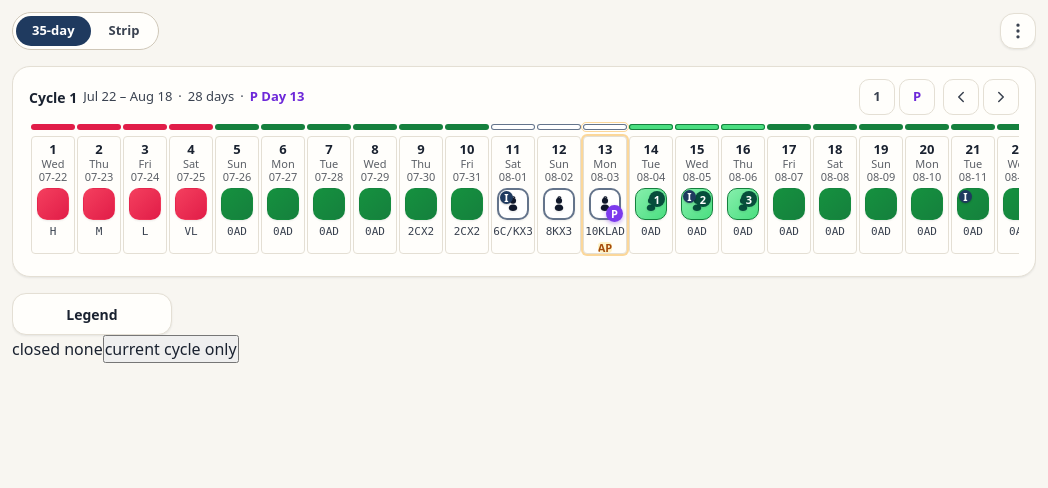
Test: ChartRow on a desktop › keeps an empty live region when today has no card and no day is selected
The width and height of the screenshot is (1048, 488).
The first selection fills the same live region, so a screen reader reads it
Click the button with aria-label "Cycle Day 13," at (605, 195), box [583,136,627,254]
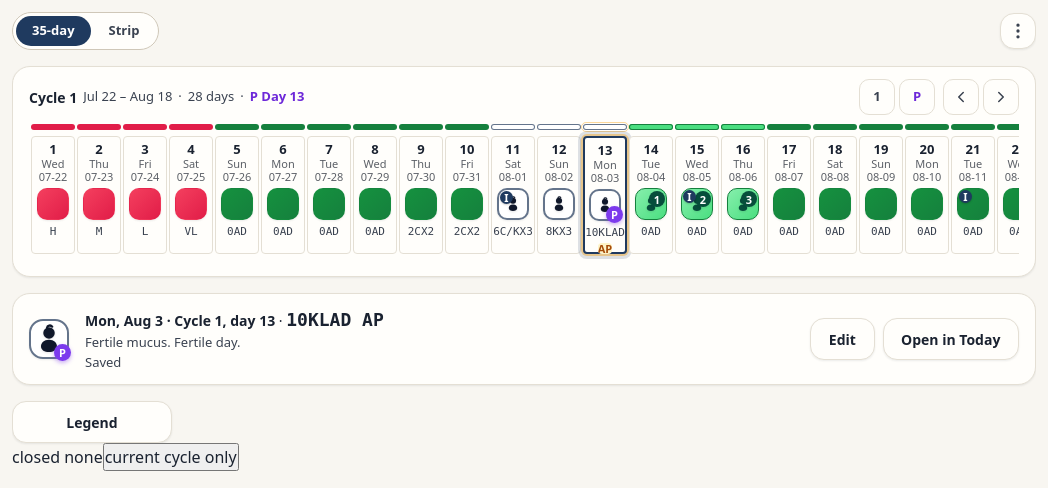
Expected: the element with class "chart-day-detail-text" shows "Cycle 1, day 13", [85,311,275,330]
